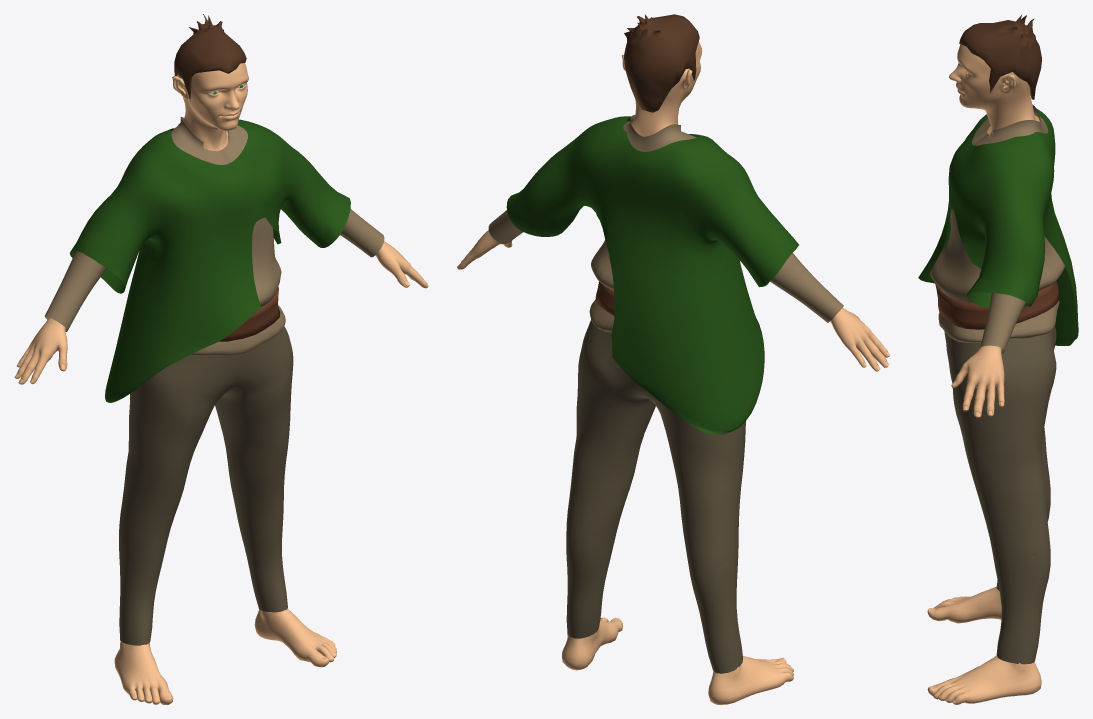
The model's file is Art Style Guide2.fbx.
3 renders of one model, left to right at view 1: azimuth 30°, elevation 25°; view 2: azimuth 150°, elevation 25°; view 3: azimuth 270°, elevation 25°, orthographic. The views are drawn at different scales.
Parts seen in each view (by area): view 1: Shirt.001, Pants, Art_Style_Guide, Shirt, Hair, Belt; view 2: Shirt.001, Pants, Art_Style_Guide, Hair, Shirt; view 3: Pants, Shirt.001, Art_Style_Guide, Shirt, Hair, Belt.
Part boxes in pixels (x1,y1,x2,y2): Shirt.001: (70,119,350,402); Pants: (119,326,293,645); Art_Style_Guide: (14,63,428,704); Shirt: (44,117,384,355); Hair: (174,14,246,99); Belt: (219,286,280,341); Shirt.001: (506,116,798,434); Pants: (566,320,745,673); Art_Style_Guide: (457,41,889,704); Hair: (624,14,699,112); Shirt: (488,115,843,332); Pants: (944,327,1056,664); Shirt.001: (918,109,1078,345); Art_Style_Guide: (927,44,1041,704); Shirt: (930,104,1064,354); Hair: (959,15,1041,99); Belt: (935,281,1059,329).
Size of the model in its own units: 100 by 150 by 33.64.
